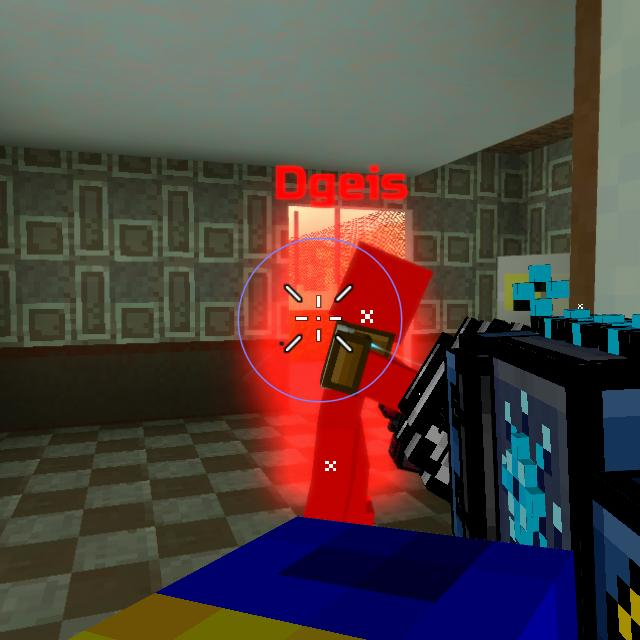Enemy: (283, 232, 417, 529)
